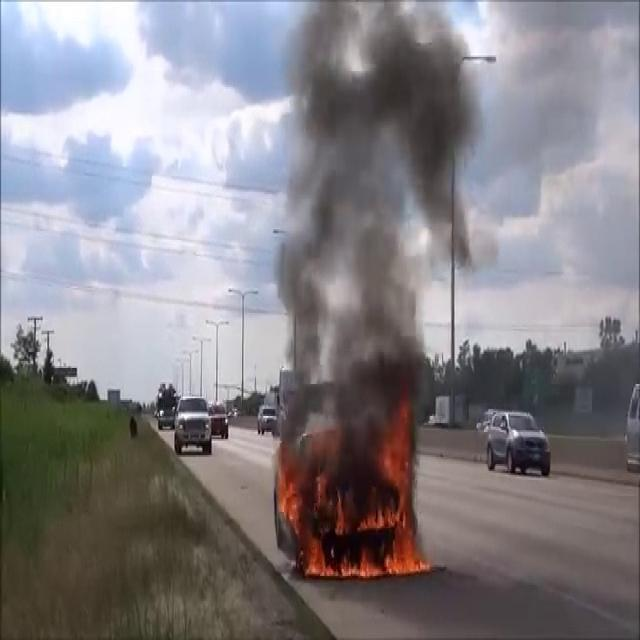Fire: (279, 403, 433, 584)
Smoke: (271, 0, 481, 437)
